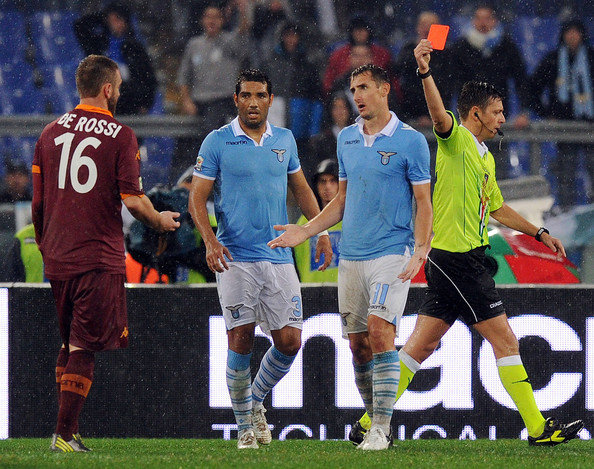red_card: (406, 14, 451, 74)
